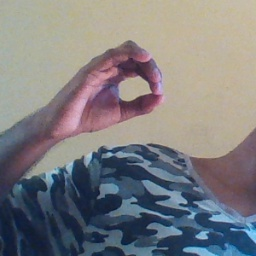O: (52, 38, 171, 137)
